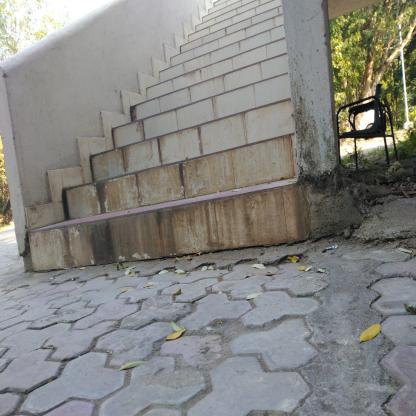stairs: (127, 105, 281, 277)
